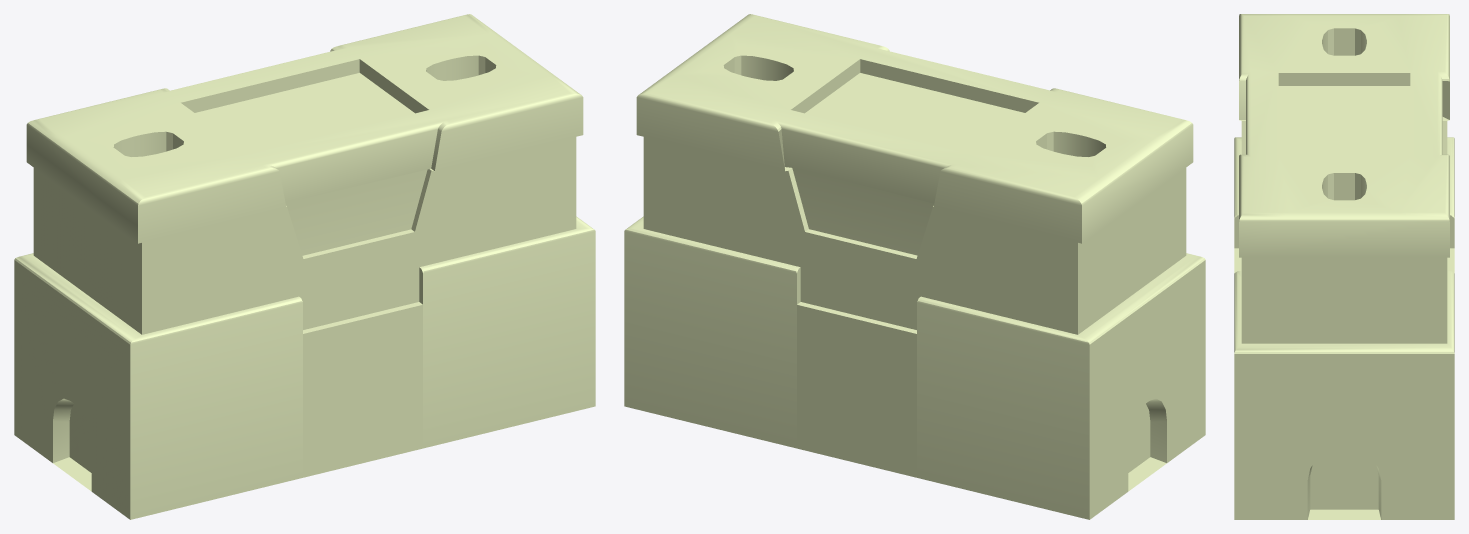
File: CutOut.glb
3 renders of one model, left to right at view 1: azimuth 30°, elevation 25°; view 2: azimuth 150°, elevation 25°; view 3: azimuth 270°, elevation 25°, orthographic. The views are drawn at different scales.
Parts seen in each view (by area): view 1: Cube.001, Cube; view 2: Cube.001, Cube; view 3: Cube.001, Cube.
Boxes of the visible parts, box(x1,y1,x2,y2) form: Cube.001: box(26, 14, 583, 334); Cube: box(14, 216, 595, 519); Cube.001: box(636, 14, 1193, 334); Cube: box(624, 216, 1205, 519); Cube.001: box(1239, 14, 1449, 343); Cube: box(1234, 137, 1454, 519).
Size of the model in its own units: 0.6184 by 0.3991 by 0.2672.
